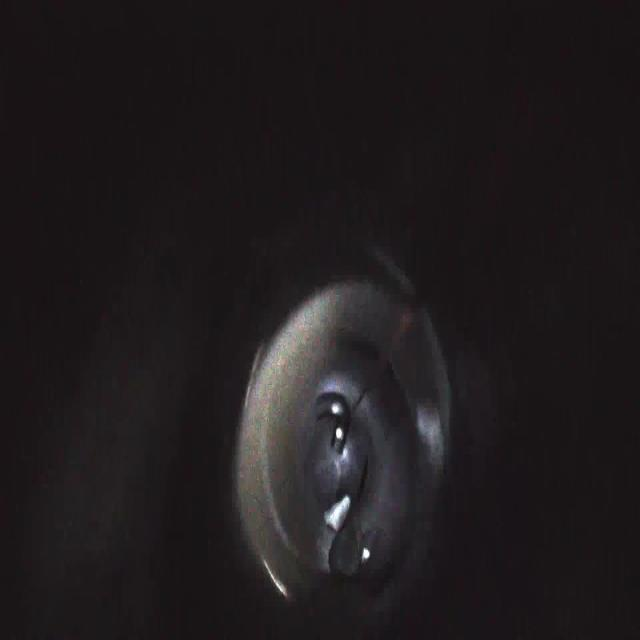impurity: (321, 526, 365, 586), (317, 493, 362, 533)
